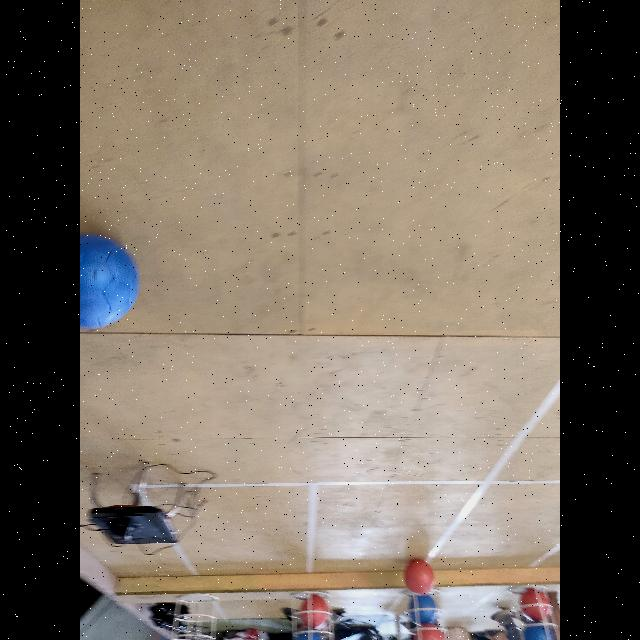B: (80, 235, 139, 328)
